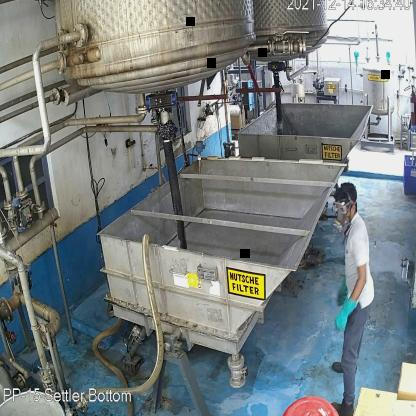glove: (333, 294, 361, 337)
goggles: (330, 200, 352, 216)
mask: (329, 210, 354, 236)
shoes: (329, 397, 356, 416)
